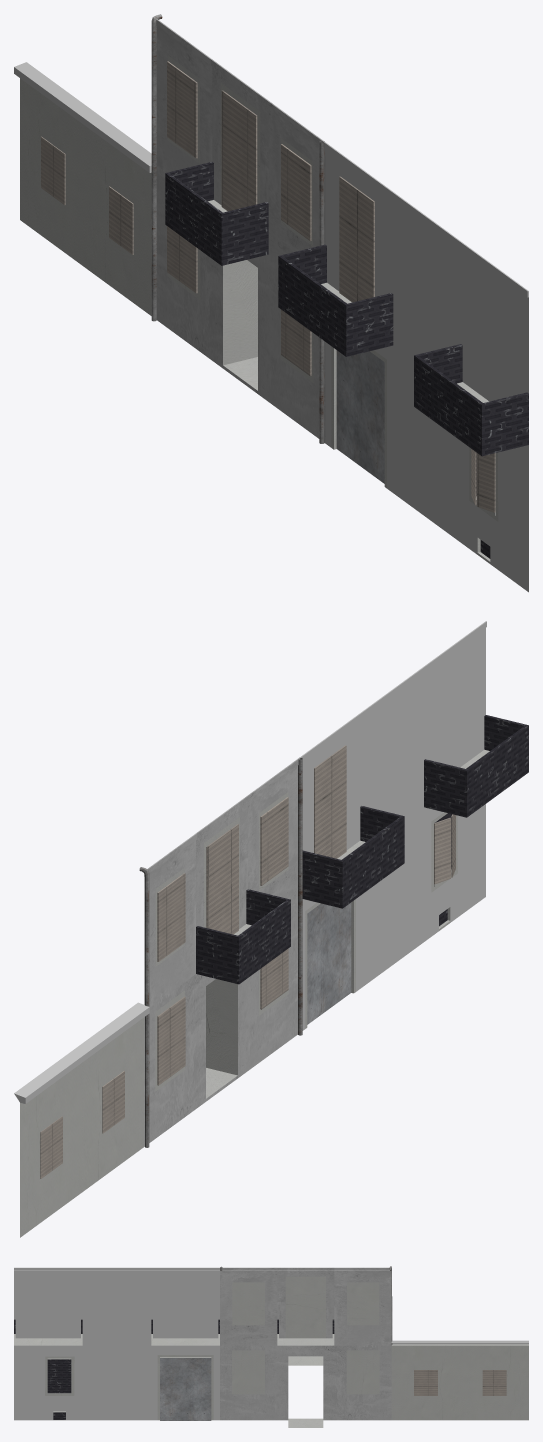
Rendered from housesRight.fbx.
3 renders of one model, top to bottom at view 1: azimuth 30°, elevation 25°; view 2: azimuth 150°, elevation 25°; view 3: azimuth 270°, elevation 25°, orthographic. The views are drawn at different scales.
Visible parts, largest first — view 1: houses_right; view 2: houses_right; view 3: houses_right.
Part boxes in pixels (<box>): houses_right: <box>14,14,528,592</box>; houses_right: <box>14,621,528,1237</box>; houses_right: <box>14,1266,528,1427</box>.
Bounding box in the file's own units: 143 × 495 × 1500.
